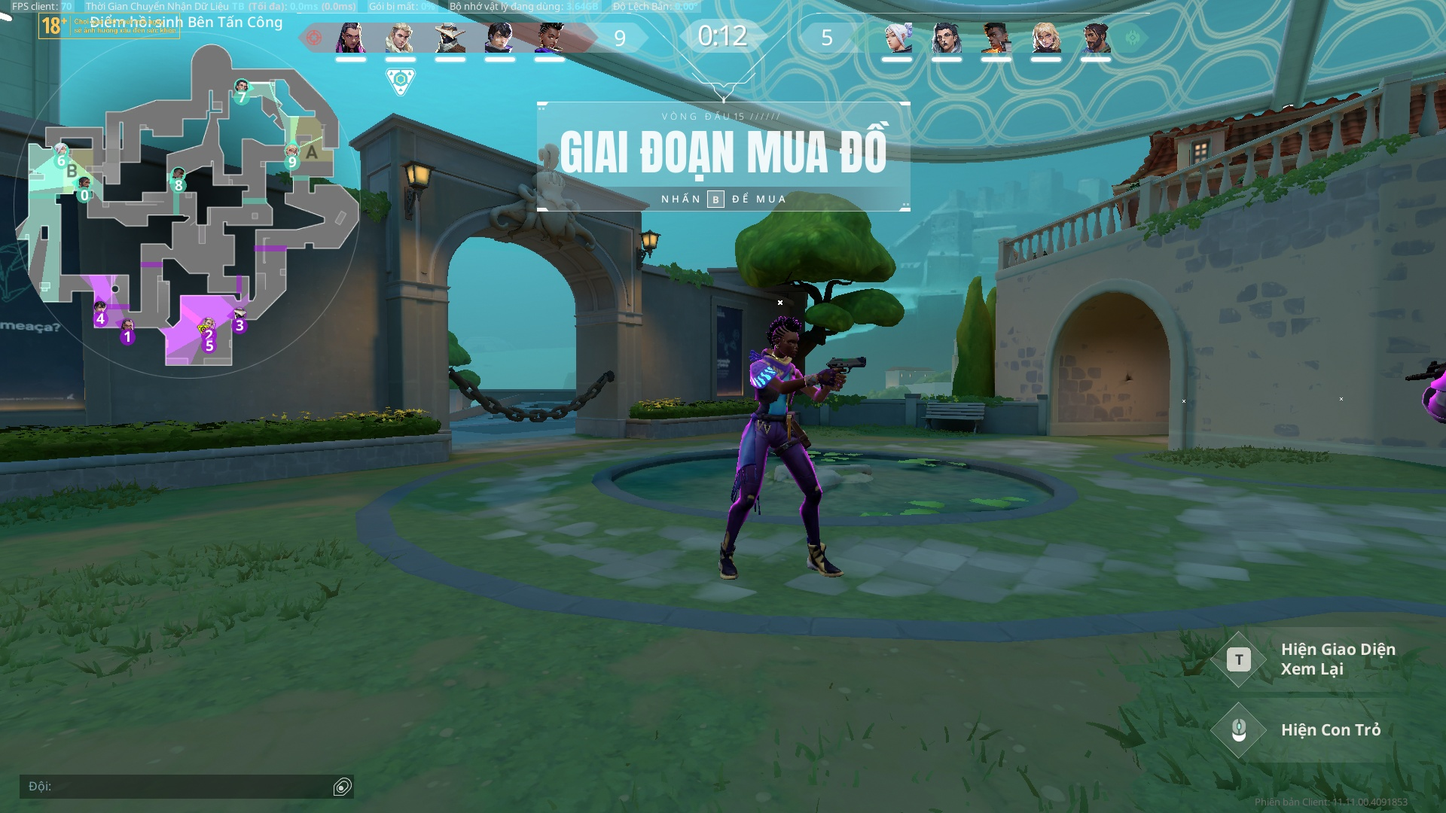body: (745, 350, 807, 418)
head: (771, 320, 804, 355)
